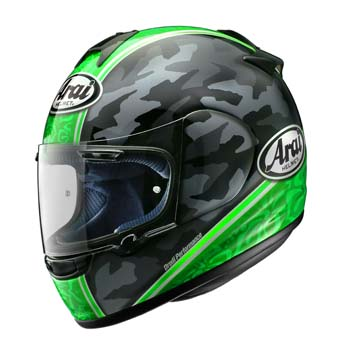helmet: (31, 15, 322, 331)
